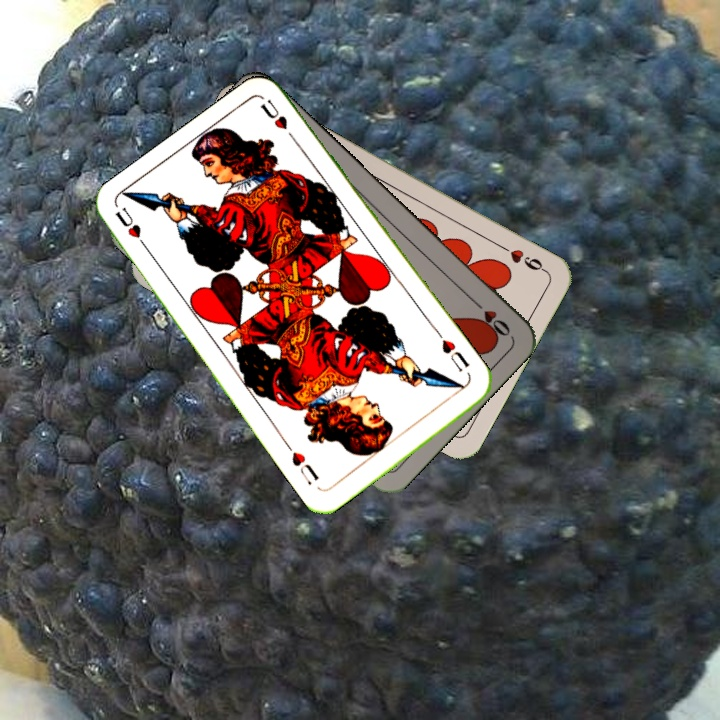H9: (494, 240, 549, 275)
HO: (466, 294, 513, 339)
HU: (111, 203, 153, 256), (437, 335, 472, 375)
